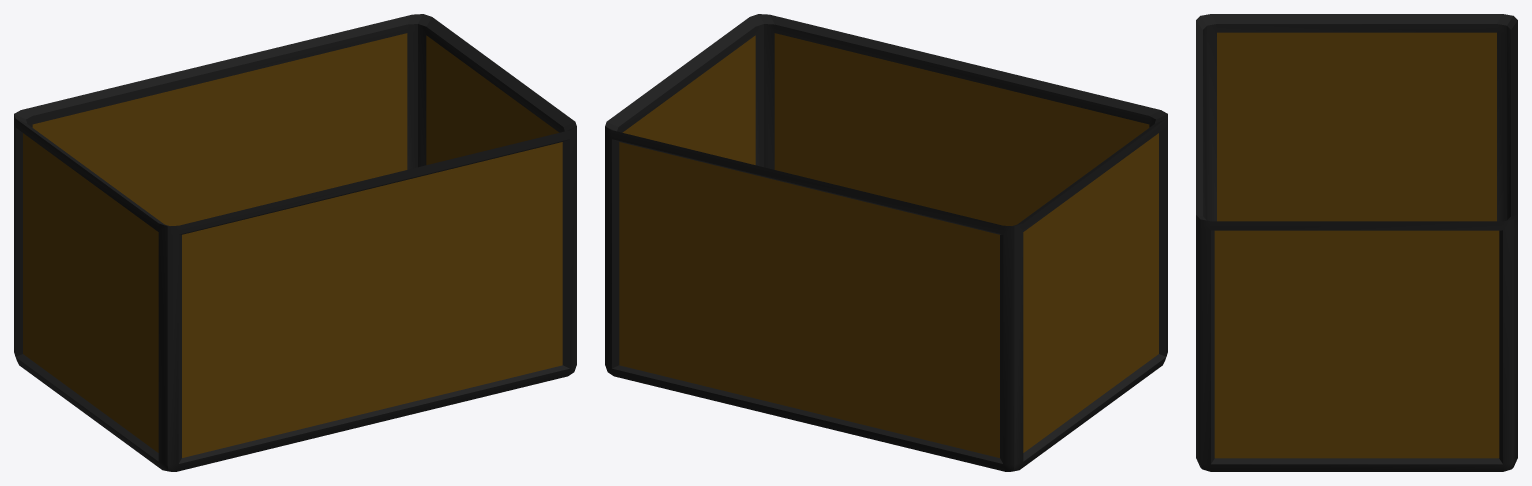
File: terrariumBox.fbx
3 views of the same model, side by side, from view 1: azimuth 30°, elevation 25°; view 2: azimuth 150°, elevation 25°; view 3: azimuth 270°, elevation 25° (orthographic).
Visible parts, largest first — view 1: backOutside, frontInside, boxEdges, rightOutside, leftInside; view 2: frontOutside, backInside, boxEdges, rightOutside, leftInside; view 3: leftOutside, rightInside, boxEdges.
Boxes of the visible parts, box(x1,y1,x2,y2) form: backOutside: box(182, 142, 562, 457); frontInside: box(32, 33, 407, 225); boxEdges: box(14, 14, 576, 471); rightOutside: box(23, 133, 158, 452); leftInside: box(426, 35, 559, 164); frontOutside: box(619, 142, 999, 457); backInside: box(774, 33, 1149, 225); boxEdges: box(605, 14, 1167, 471); rightOutside: box(1023, 133, 1158, 452); leftInside: box(622, 35, 755, 164); leftOutside: box(1214, 230, 1499, 458); rightInside: box(1217, 32, 1496, 221); boxEdges: box(1196, 14, 1517, 471).
Size of the model in its own units: 0.4807 by 0.2774 by 0.3155.
